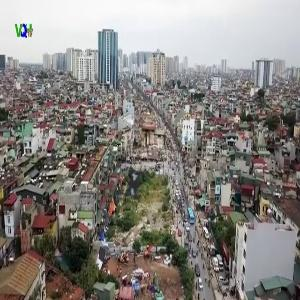drone: (96, 149, 172, 225)
